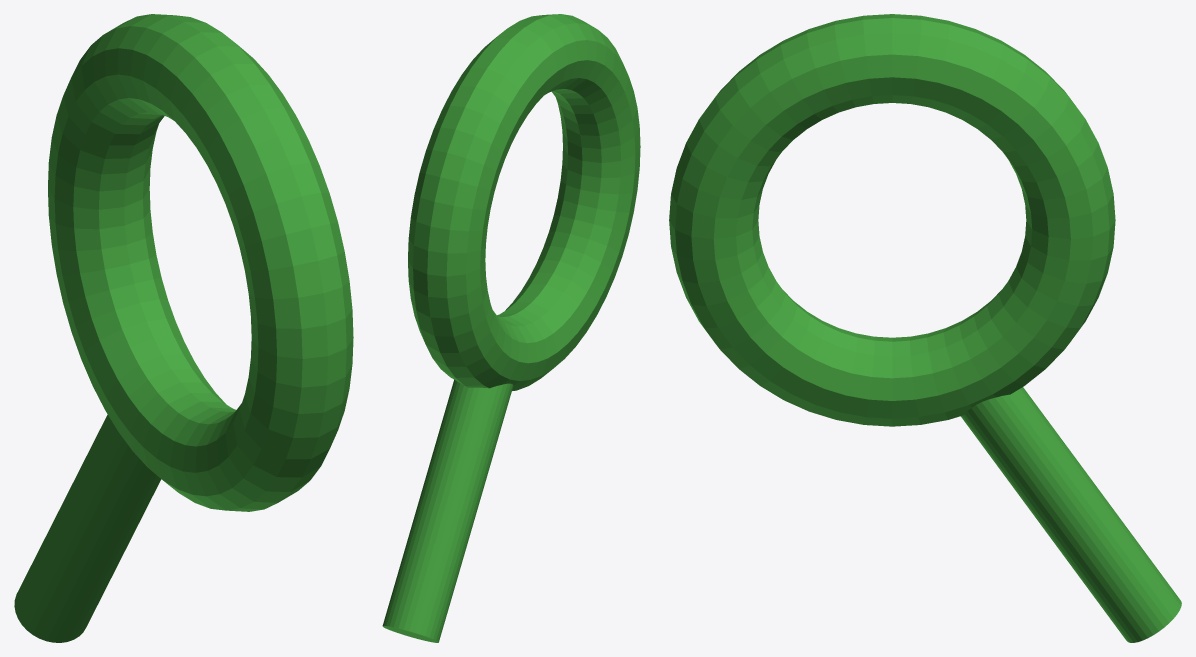
The model's file is icon_serch.glb.
3 renders of one model, left to right at view 1: azimuth 30°, elevation 25°; view 2: azimuth 150°, elevation 25°; view 3: azimuth 270°, elevation 25°, orthographic. The views are drawn at different scales.
Visible parts, largest first — view 1: Search; view 2: Search; view 3: Search.
Part boxes in pixels (x1,y1,x2,y2): Search: [14, 14, 353, 642]; Search: [382, 14, 640, 642]; Search: [669, 14, 1181, 642].
Size of the model in its own units: 0.0507 by 0.388 by 0.2909.
